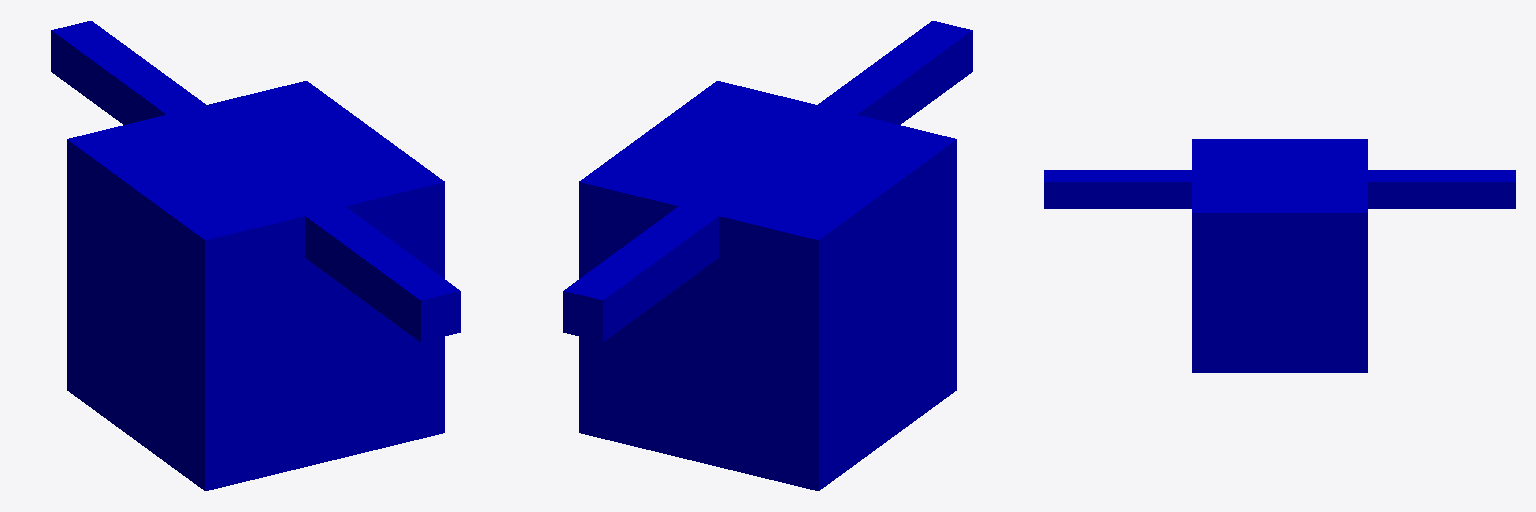
The robot description file, URDF, robot "cube":
<?xml version="1.0"?>
<robot name="cube">

  <link name="base_link">

    <contact>
        <lateral_friction value="2.0"/>
    </contact>

    <visual>
      <origin rpy="0 0 0" xyz="0 0 0"/>
      <geometry>
        <box size="0.12 0.12 0.12"/>
      </geometry>
      <material name="blue">
        <color rgba="0 0 .8 1"/>
      </material>
    </visual>

    <collision>
      <origin rpy="0 0 0" xyz="0 0 0"/>
      <geometry>
        <box size="0.12 0.12 0.12"/>
      </geometry>
    </collision>

    <inertial>
      <mass value="0.25"/>
      <origin rpy="0 0 0" xyz="0 0 0"/>
      <inertia ixx="1e-3" ixy="0.0" ixz="0.0" iyy="1e-3" iyz="0.0" izz="1e-3"/>
    </inertial>

  </link>

  <link name="link_1">

    <contact>
        <lateral_friction value="2.0"/>
    </contact>

    <visual>
      <origin rpy="0 0 0" xyz="0 -0.04 0"/>
      <geometry>
        <box size="0.02 0.12 0.02"/>
      </geometry>
      <material name="blue">
        <color rgba="0 0 .8 1"/>
      </material>
    </visual>

    <collision>
      <origin rpy="0 0 0" xyz="0 -0.04 0"/>
      <geometry>
        <box size="0.02 0.12 0.02"/>
      </geometry>
    </collision>

    <inertial>
      <mass value="0.01"/>
      <origin rpy="0 0 0" xyz="0 0 0"/>
      <inertia ixx="1e-3" ixy="0.0" ixz="0.0" iyy="1e-3" iyz="0.0" izz="1e-3"/>
    </inertial>

  </link>

  <link name="link_2">

    <contact>
        <lateral_friction value="2.0"/>
    </contact>

    <visual>
      <origin rpy="0 0 0" xyz="0 0.04 0"/>
      <geometry>
        <box size="0.02 0.12 0.02"/>
      </geometry>
      <material name="blue">
        <color rgba="0 0 .8 1"/>
      </material>
    </visual>

    <collision>
      <origin rpy="0 0 0" xyz="0 0.04 0"/>
      <geometry>
        <box size="0.02 0.12 0.02"/>
      </geometry>
    </collision>

    <inertial>
      <mass value="0.01"/>
      <origin rpy="0 0 0" xyz="0 0 0"/>
      <inertia ixx="1e-3" ixy="0.0" ixz="0.0" iyy="1e-3" iyz="0.0" izz="1e-3"/>
    </inertial>

  </link>

  <joint name="joint_1" type="fixed">
    <origin xyz="0 0.14 0.05" rpy="0.0 0.0 0.0"/>
    <parent link="base_link"/>
    <child link="link_1"/>
    <axis xyz="0.0 0.0 0.0"/>
    <limit lower="0.0" upper="0.0" effort="0.0" velocity="0.0"/>
  </joint>

  <joint name="joint_2" type="fixed">
    <origin xyz="0 -0.14 0.05" rpy="0.0 0.0 0.0"/>
    <parent link="base_link"/>
    <child link="link_2"/>
    <axis xyz="0.0 0.0 0.0"/>
    <limit lower="0.0" upper="0.0" effort="0.0" velocity="0.0"/>
  </joint>

</robot>

--- What the picture shows (computed from the rendered views, not written in the file) ---
The picture shows the robot from 3 angles, left to right: view 1: azimuth 30°, elevation 25°; view 2: azimuth 150°, elevation 25°; view 3: azimuth 270°, elevation 25°; orthographic projection.
Robot: cube — 3 links, 2 joints (2 fixed); root link base_link; default pose: all joints at 0.
Visible links, largest first — view 1: base_link, link_2, link_1; view 2: base_link, link_1, link_2; view 3: base_link, link_1, link_2.
Boxes of the visible links, bbox=[...] form: base_link: bbox=[67, 81, 444, 490]; link_2: bbox=[283, 191, 460, 341]; link_1: bbox=[51, 21, 225, 130]; base_link: bbox=[579, 81, 956, 490]; link_1: bbox=[563, 191, 740, 341]; link_2: bbox=[805, 21, 972, 124]; base_link: bbox=[1192, 139, 1367, 372]; link_1: bbox=[1339, 170, 1515, 208]; link_2: bbox=[1044, 170, 1220, 208].
Size in the robot's own frame: 0.12 by 0.32 by 0.12 metres.
Geometry: primitives only (box / cylinder / sphere), no mesh files.